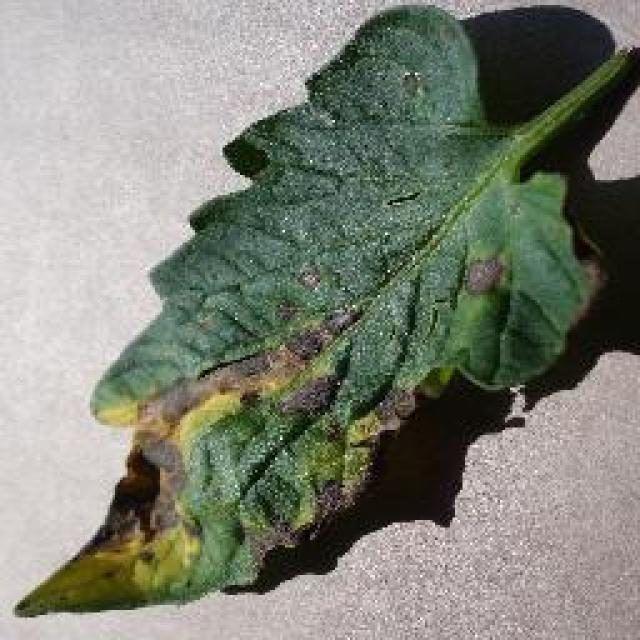Tomato___Early_blight: (6, 7, 634, 623)
